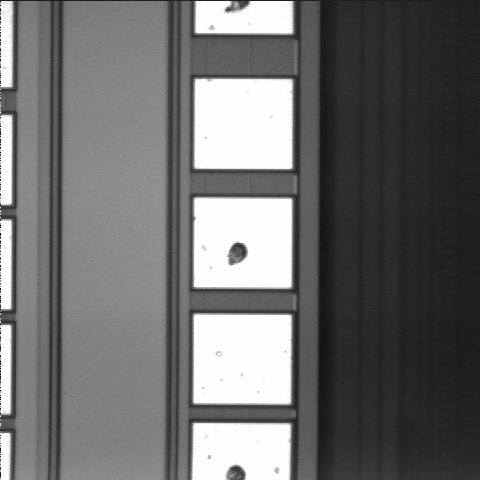pad: (194, 79, 292, 169), (194, 198, 292, 288), (194, 315, 291, 404)
